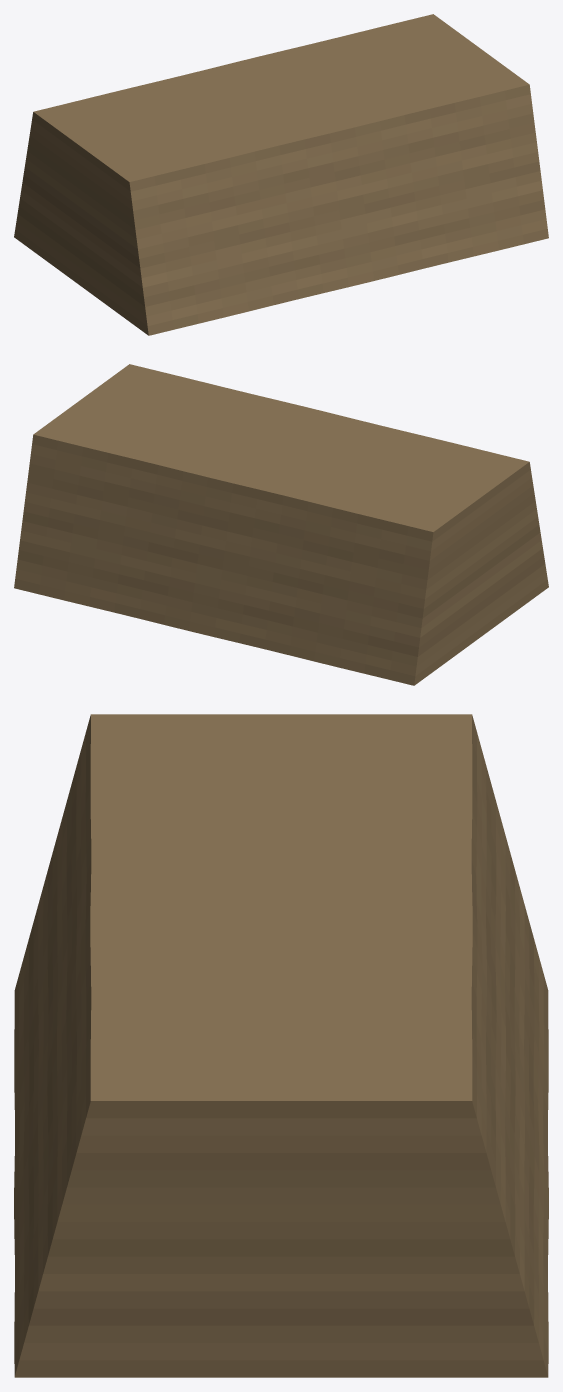
File: earthwall-B-LOD1.glb
The picture shows the model from 3 angles, top to bottom: view 1: azimuth 30°, elevation 25°; view 2: azimuth 150°, elevation 25°; view 3: azimuth 270°, elevation 25°; orthographic projection. The views are drawn at different scales.
Parts seen in each view (by area): view 1: earthwall-B-LOD1; view 2: earthwall-B-LOD1; view 3: earthwall-B-LOD1.
Part boxes in pixels (left/top/right/bottom): earthwall-B-LOD1: left=14, top=14, right=548, bottom=335; earthwall-B-LOD1: left=14, top=364, right=548, bottom=685; earthwall-B-LOD1: left=14, top=714, right=548, bottom=1377.
Bounding box in the file's own units: 24 × 8 × 14.03.
